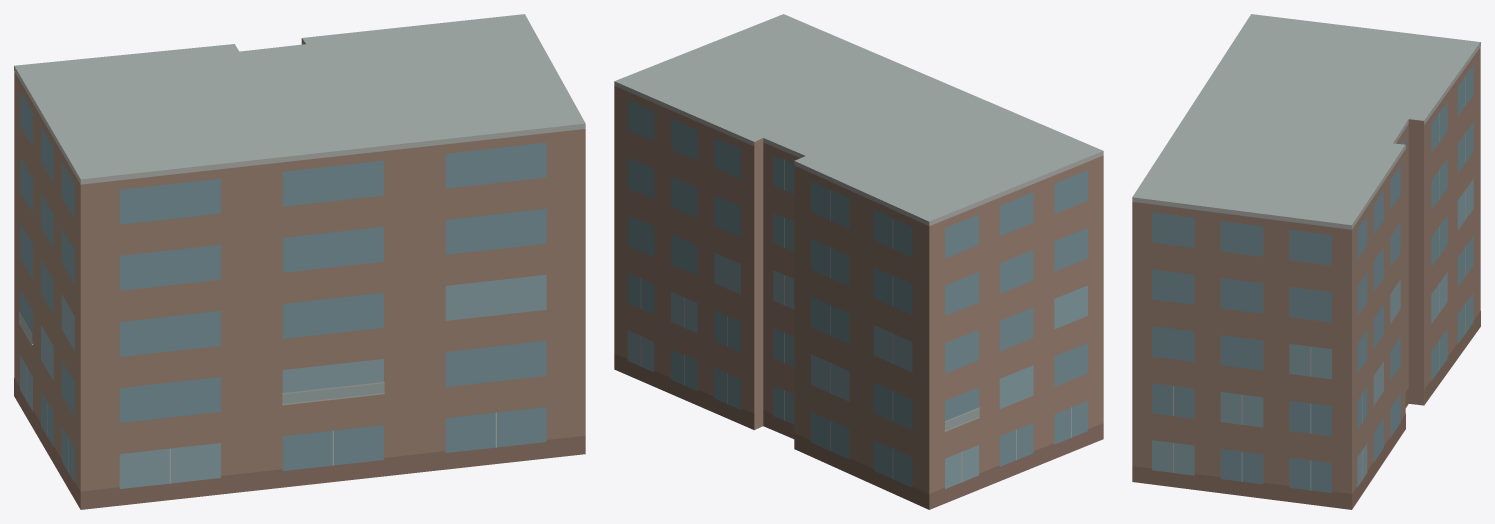
Rendered from survey-upis-32874401.glb.
3 renders of one model, left to right at view 1: azimuth 30°, elevation 25°; view 2: azimuth 150°, elevation 25°; view 3: azimuth 270°, elevation 25°, orthographic. The views are drawn at different scales.
Parts seen in each view (by area): view 1: survey-upis-32874401.tmp; view 2: survey-upis-32874401.tmp; view 3: survey-upis-32874401.tmp.
Part boxes in pixels (x1,y1,x2,y2): survey-upis-32874401.tmp: [14, 14, 585, 509]; survey-upis-32874401.tmp: [614, 14, 1103, 509]; survey-upis-32874401.tmp: [1132, 14, 1480, 509].
Size of the model in its own units: 24.52 by 15.4 by 17.1.
